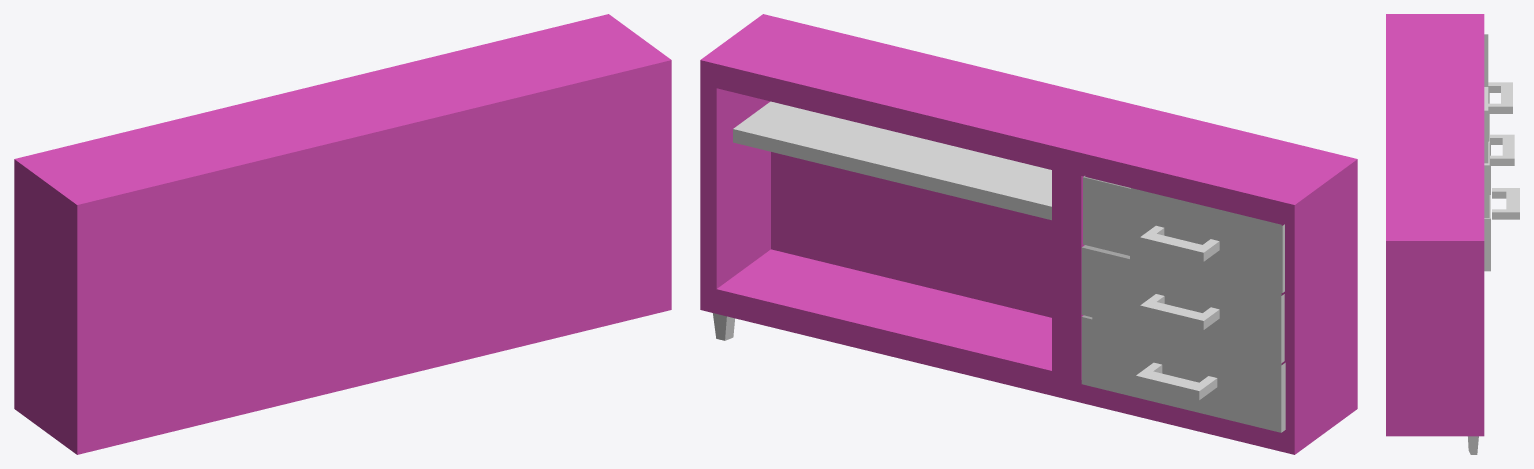
The picture shows the model from 3 angles, left to right: view 1: azimuth 30°, elevation 25°; view 2: azimuth 150°, elevation 25°; view 3: azimuth 270°, elevation 25°; orthographic projection. The views are drawn at different scales.
Parts seen in each view (by area): view 1: Cube; view 2: Cube, Cube.001, Cube.009, Cube.008, Cube.010; view 3: Cube, Cube.010, Cube.008, Cube.009, Cube.002.
Part boxes in pixels (x1=…): Cube: x1=14, y1=14, x2=671, y2=454; Cube: x1=700, y1=14, x2=1357, y2=454; Cube.001: x1=733, y1=101, x2=1051, y2=220; Cube.009: x1=1081, y1=245, x2=1284, y2=363; Cube.008: x1=1081, y1=315, x2=1285, y2=432; Cube.010: x1=1083, y1=176, x2=1284, y2=292; Cube: x1=1386, y1=14, x2=1484, y2=436; Cube.010: x1=1484, y1=34, x2=1512, y2=163; Cube.008: x1=1484, y1=142, x2=1519, y2=271; Cube.009: x1=1484, y1=93, x2=1514, y2=217; Cube.002: x1=1468, y1=436, x2=1478, y2=454.
Size of the model in its own units: 4.98 by 2.24 by 1.24.
